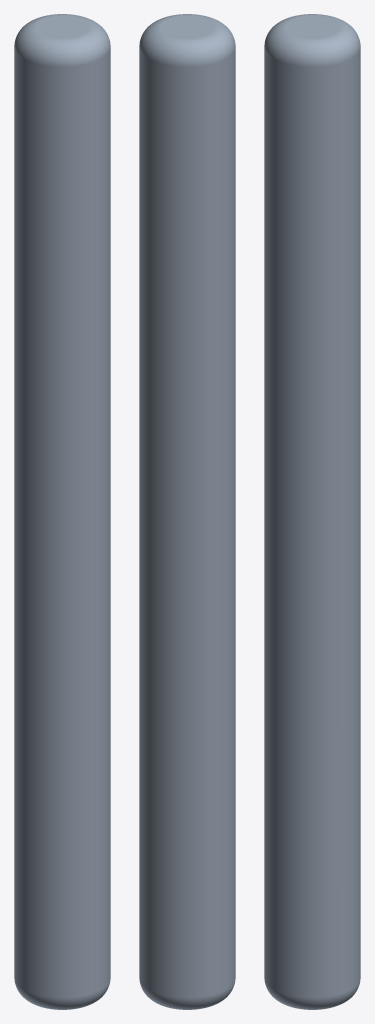
File: simple_rod.obj
3 views of the same model, side by side, from view 1: azimuth 30°, elevation 25°; view 2: azimuth 150°, elevation 25°; view 3: azimuth 330°, elevation 25° (orthographic).
Visible parts, largest first — view 1: 1; view 2: 1; view 3: 1.
Part boxes in pixels (x1,y1,x2,y2): 1: (14,14,110,1009); 1: (139,14,235,1009); 1: (264,14,360,1009).
Size of the model in its own units: 9 by 100 by 8.99.
